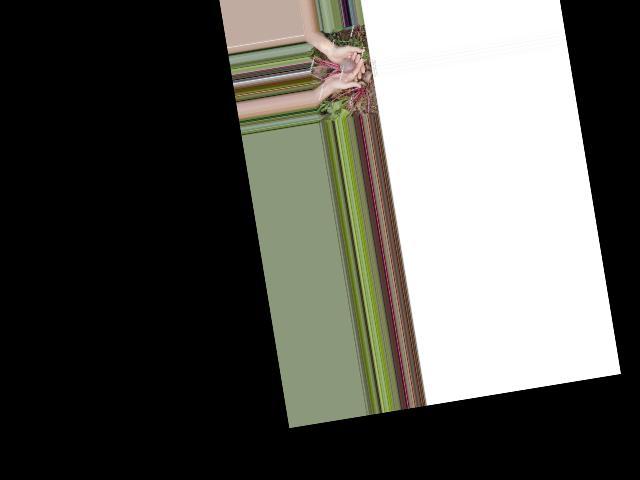beet: (309, 48, 358, 82)
